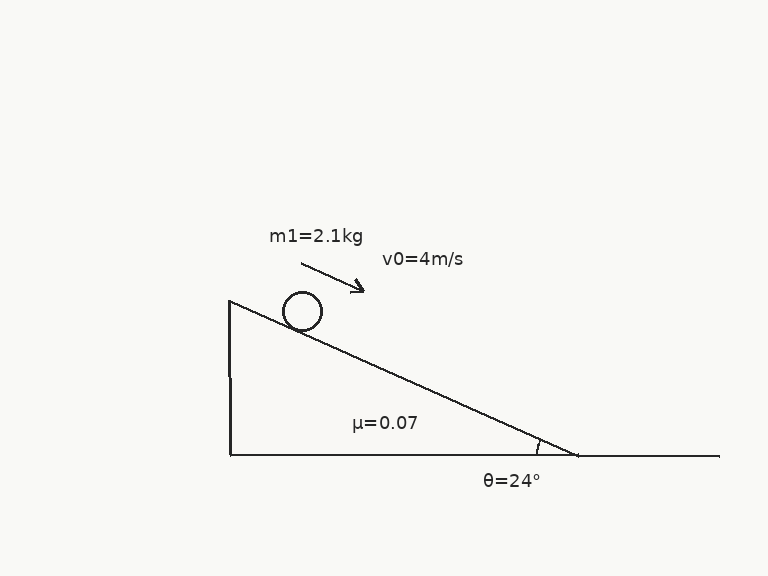ball: (280, 289, 324, 333)
ramp: (228, 298, 579, 457)
